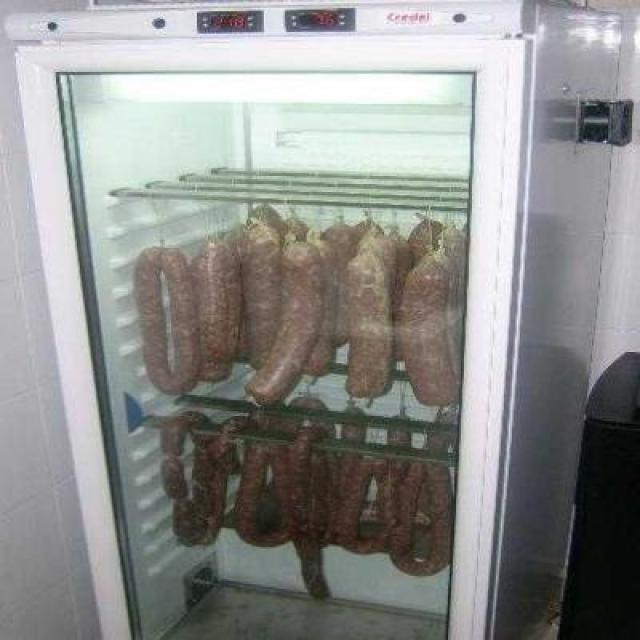refrigerator: (15, 0, 542, 640)
